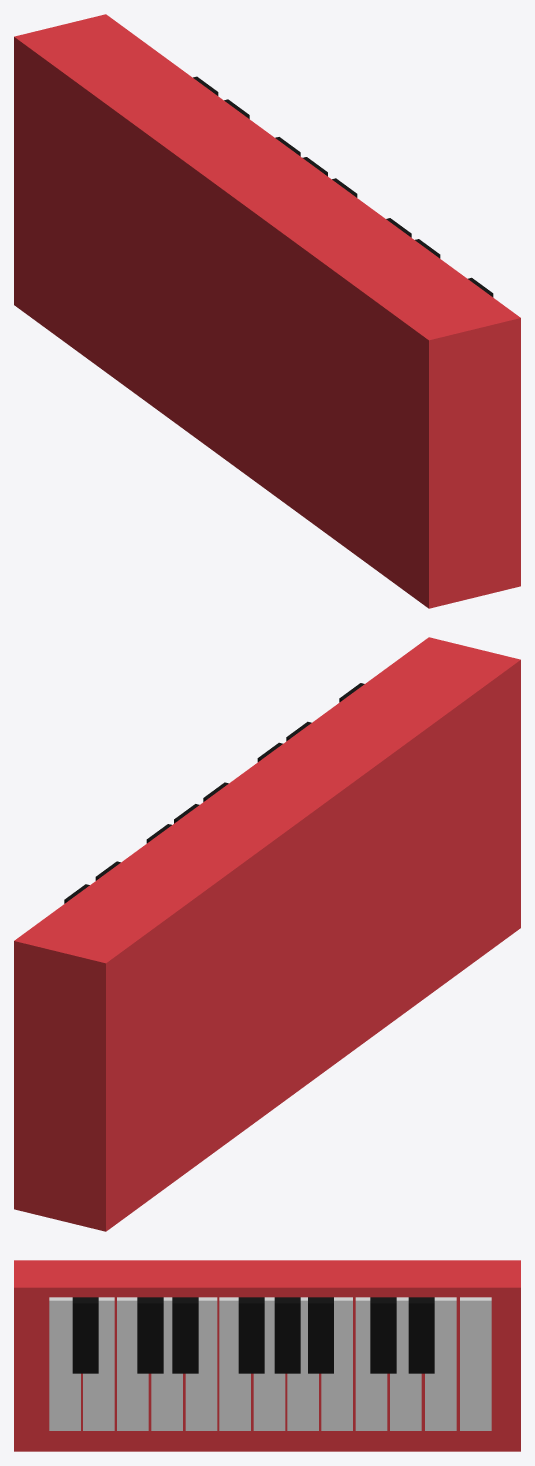
Rendered from piano (1).fbx.
The picture shows the model from 3 angles, top to bottom: view 1: azimuth 30°, elevation 25°; view 2: azimuth 150°, elevation 25°; view 3: azimuth 270°, elevation 25°; orthographic projection. The views are drawn at different scales.
Visible parts, largest first — view 1: Cubo; view 2: Cubo; view 3: Cubo, Cubo.013, Cubo.001, Cubo.012, Cubo.003, Cubo.005, Cubo.006, Cubo.009, Cubo.002, Cubo.010, Cubo.011, Cubo.007 (+10 smaller).
Part boxes in pixels (x1,y1,x2,y2): Cubo: (14,14,520,608); Cubo: (14,637,520,1231); Cubo: (14,1260,520,1451); Cubo.013: (460,1297,491,1430); Cubo.001: (49,1297,80,1430); Cubo.012: (425,1297,456,1430); Cubo.003: (117,1297,148,1430); Cubo.005: (185,1297,217,1430); Cubo.006: (219,1297,250,1430); Cubo.009: (321,1297,352,1430); Cubo.002: (83,1297,114,1430); Cubo.010: (355,1297,387,1430); Cubo.011: (390,1297,421,1430); Cubo.007: (253,1297,285,1430).
Bounding box in the file's own units: 98.36 × 225 × 629.
